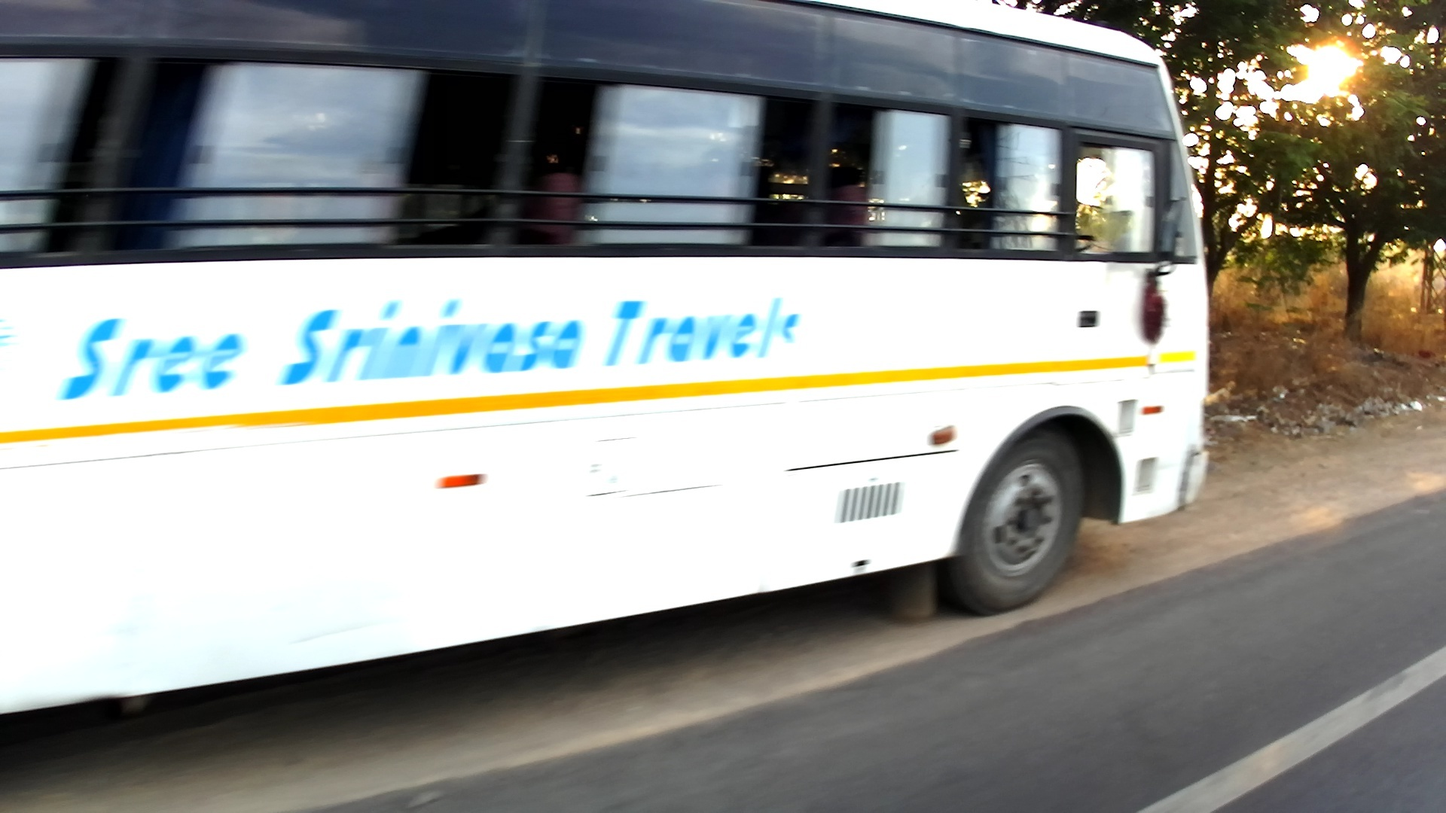bus: (1, 1, 1218, 723)
